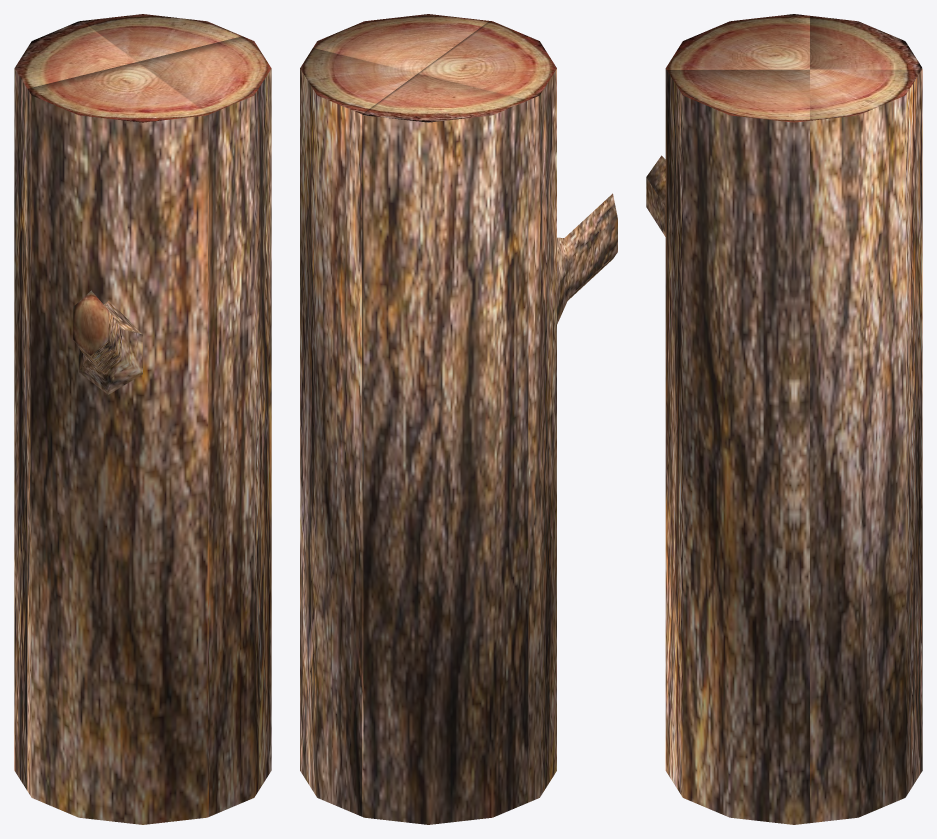
File: Firewood.fbx
The picture shows the model from 3 angles, left to right: view 1: azimuth 30°, elevation 25°; view 2: azimuth 150°, elevation 25°; view 3: azimuth 270°, elevation 25°; orthographic projection.
Visible parts, largest first — view 1: Firewood_1, Firewood_3, Firewood_2, Firewood_4; view 2: Firewood_2, Firewood_4, Firewood_1, Firewood_3; view 3: Firewood_3, Firewood_4, Firewood_1, Firewood_2.
Part boxes in pixels (x1,y1,x2,y2): Firewood_1: (27,62,209,824); Firewood_3: (138,36,271,816); Firewood_2: (14,21,137,790); Firewood_4: (82,14,241,61); Firewood_2: (362,73,528,824); Firewood_4: (300,48,417,816); Firewood_1: (418,21,617,802); Firewood_3: (313,14,488,73); Firewood_3: (666,69,809,824); Firewood_4: (810,69,921,822); Firewood_1: (646,14,809,770); Firewood_2: (810,16,922,771).
Bounding box in the file's own units: 21.63 × 60.3 × 21.51.
Materials: 1 (1 with a texture image).
